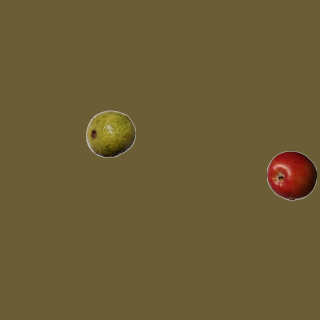Apple Braeburn: (266, 150, 316, 200)
Guava: (85, 108, 135, 158)
